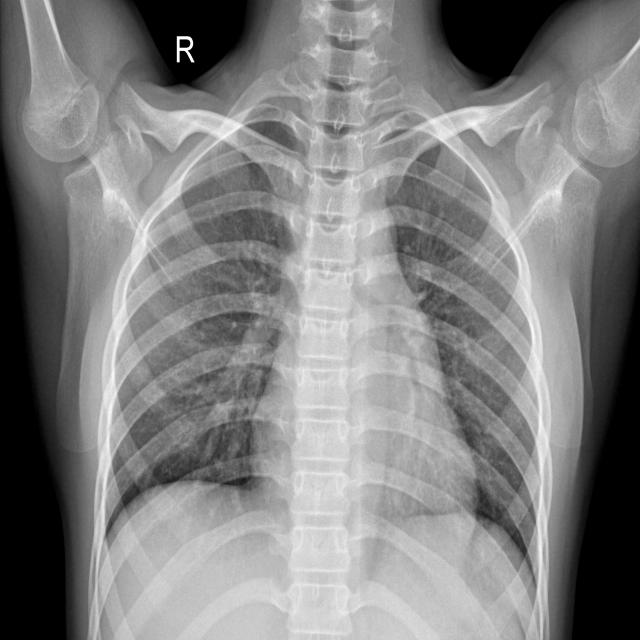no-pneumonia: (100, 115, 309, 531), (385, 108, 551, 571)
